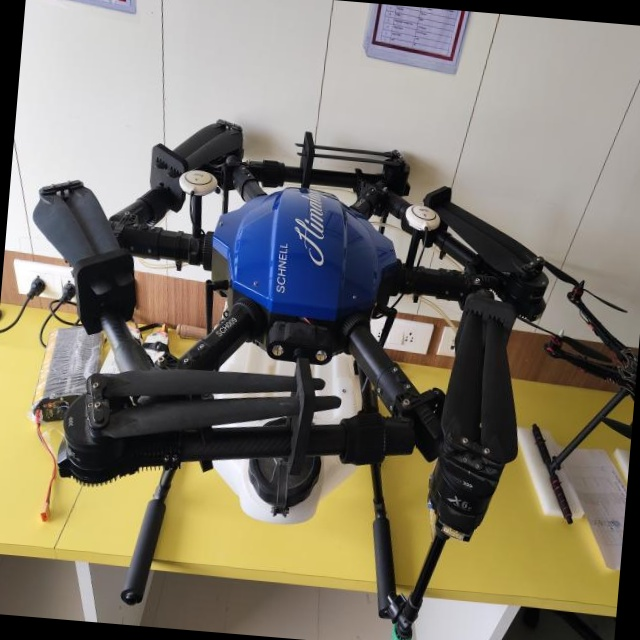agriculturedrone: (0, 93, 606, 640)
